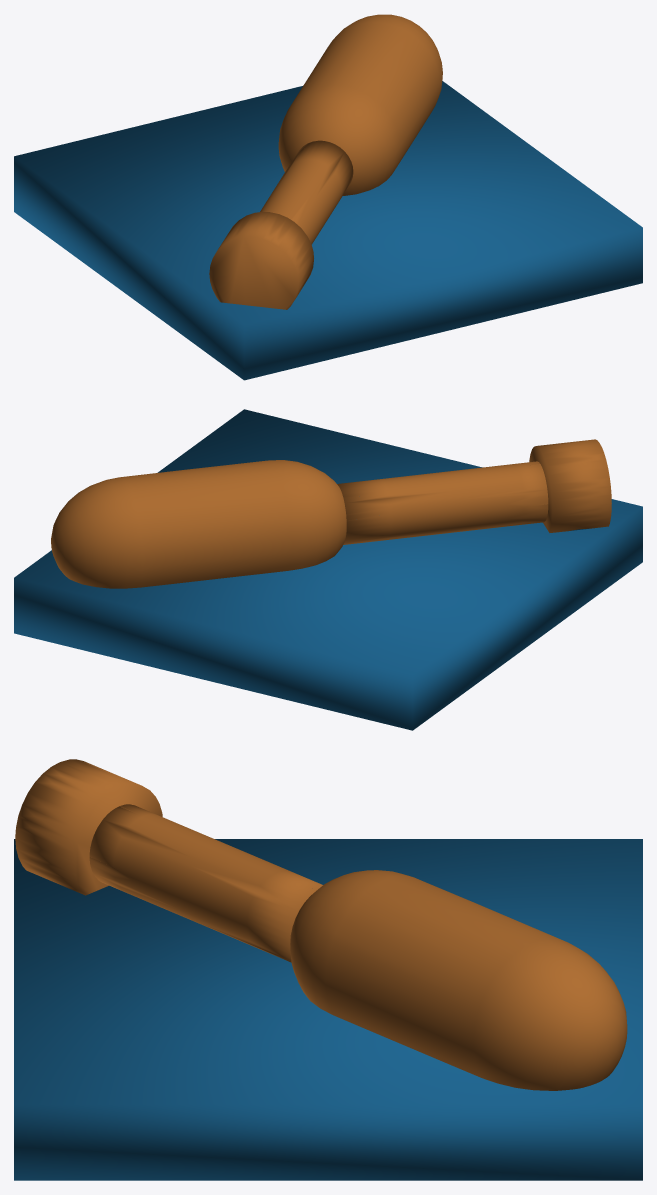
File: w_poolstick.glb
3 renders of one model, top to bottom at view 1: azimuth 30°, elevation 25°; view 2: azimuth 150°, elevation 25°; view 3: azimuth 270°, elevation 25°, orthographic. The views are drawn at different scales.
Visible parts, largest first — view 1: basetta, figura; view 2: basetta, figura; view 3: basetta, figura.
Boxes of the visible parts, box(x1,y1,x2,y2) form: basetta: box(14, 81, 642, 380); figura: box(209, 14, 442, 309); basetta: box(14, 409, 642, 730); figura: box(51, 439, 611, 588); basetta: box(14, 839, 642, 1180); figura: box(15, 759, 627, 1090).
Size of the model in its own units: 0.0151 by 0.005 by 0.015.
